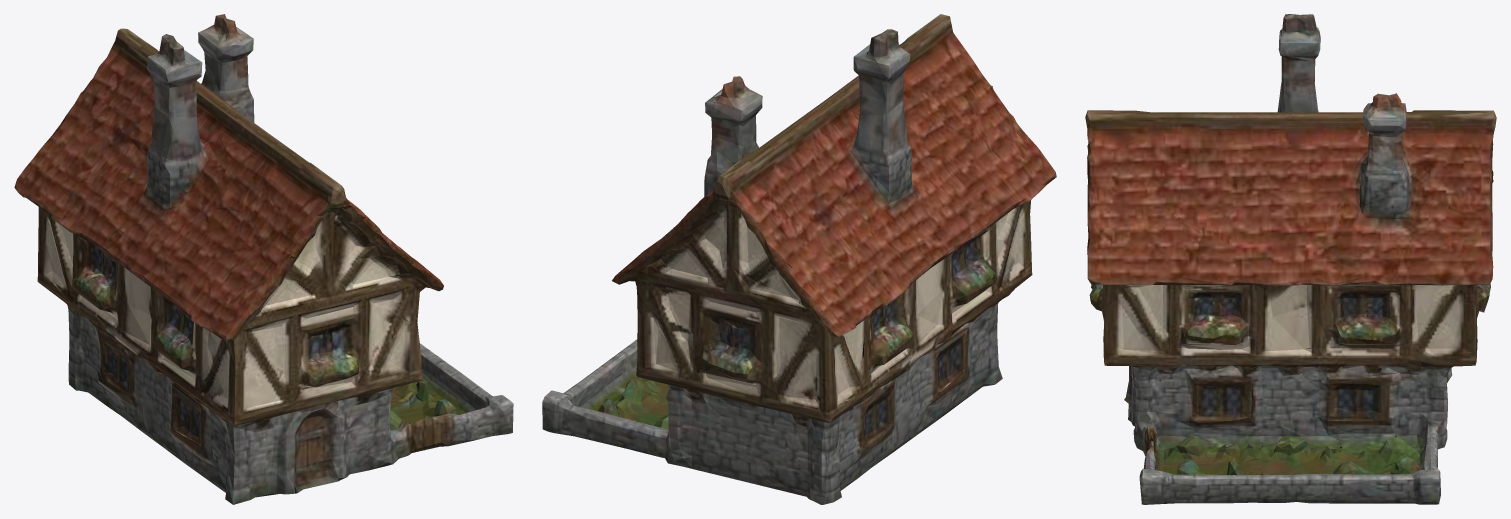
The model's file is house_family_lod1.glb.
3 views of the same model, side by side, from view 1: azimuth 30°, elevation 25°; view 2: azimuth 150°, elevation 25°; view 3: azimuth 270°, elevation 25° (orthographic). The views are drawn at different scales.
Visible parts, largest first — view 1: lod; view 2: lod; view 3: lod.
Boxes of the visible parts, x1,y1,x2,y2 form: lod: (14, 14, 513, 504); lod: (542, 14, 1056, 504); lod: (1085, 14, 1496, 504).
Size of the model in its own units: 1.6 by 1.89 by 1.88.
Materials: 1 (1 with a texture image).
